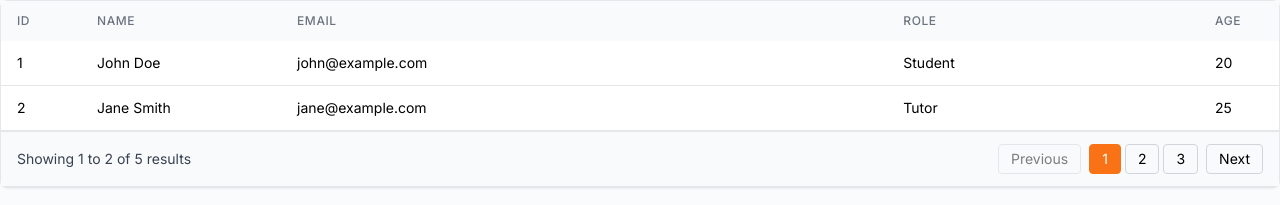
Scenario: OptimizedDataTable › Pagination Functionality › should navigate between pages
Expected: the text "John Doe" is shown, top-left (81, 41), bottom-right (281, 86)
Expected: the text "Jane Smith" is shown, top-left (81, 86), bottom-right (281, 130)
Click next page
Step 1. Click the button "Next" → click(1235, 159), box top-left (1206, 144), bottom-right (1263, 174)
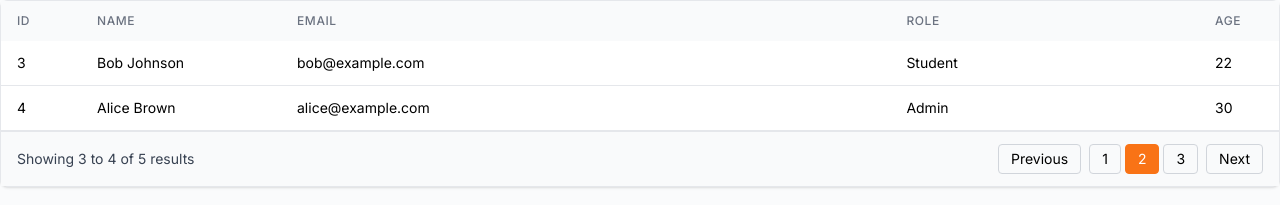
Expected: the text "Bob Johnson" is shown, top-left (81, 41), bottom-right (281, 86)
Expected: the text "John Doe" is gone
